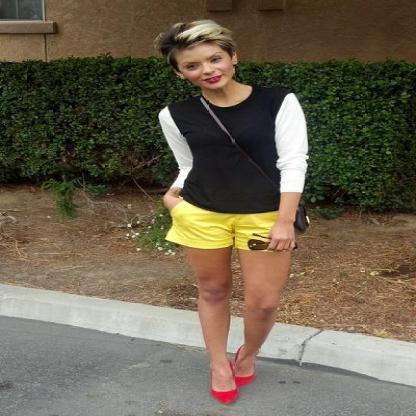bag: (206, 108, 230, 135)
shirt: (158, 77, 308, 214)
shoe: (211, 374, 253, 403)
shorts: (163, 192, 276, 249)
sunglass: (247, 239, 270, 250)
